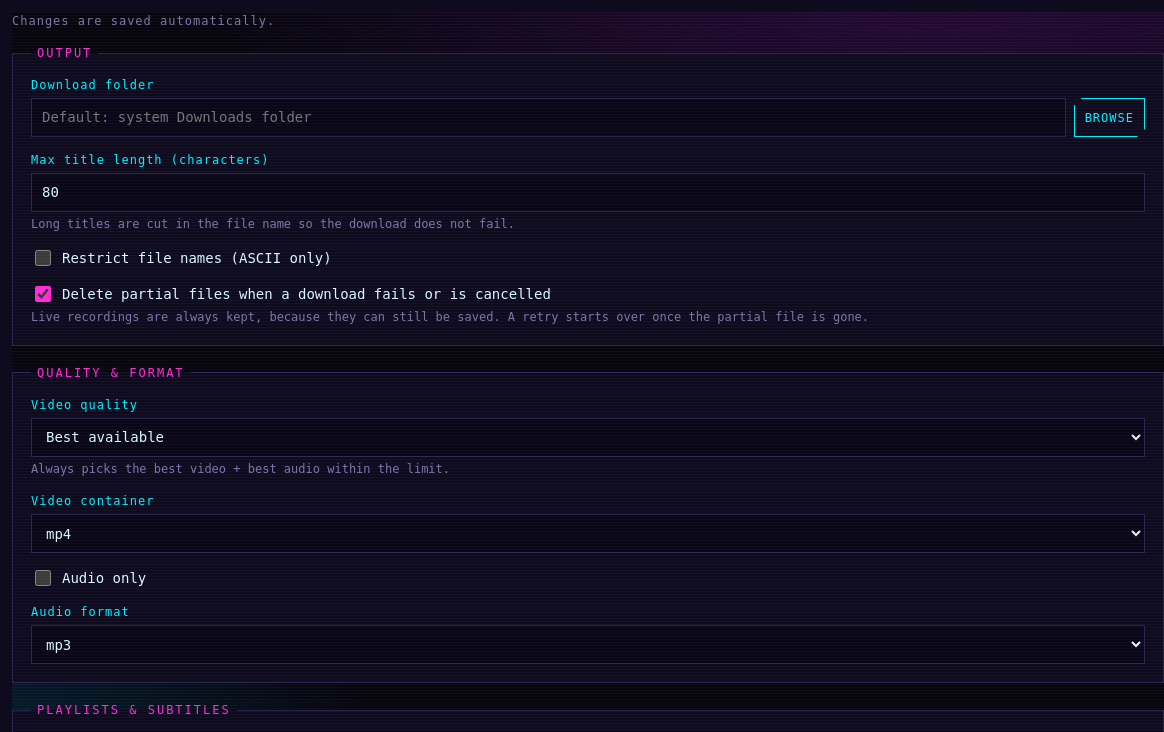
Test: SettingsPanel auto-save of toggles and selects (immediate) › shows the saved status after saving
Click the checkbox labelled "Audio only" at (43, 578), box [35,570,51,586]
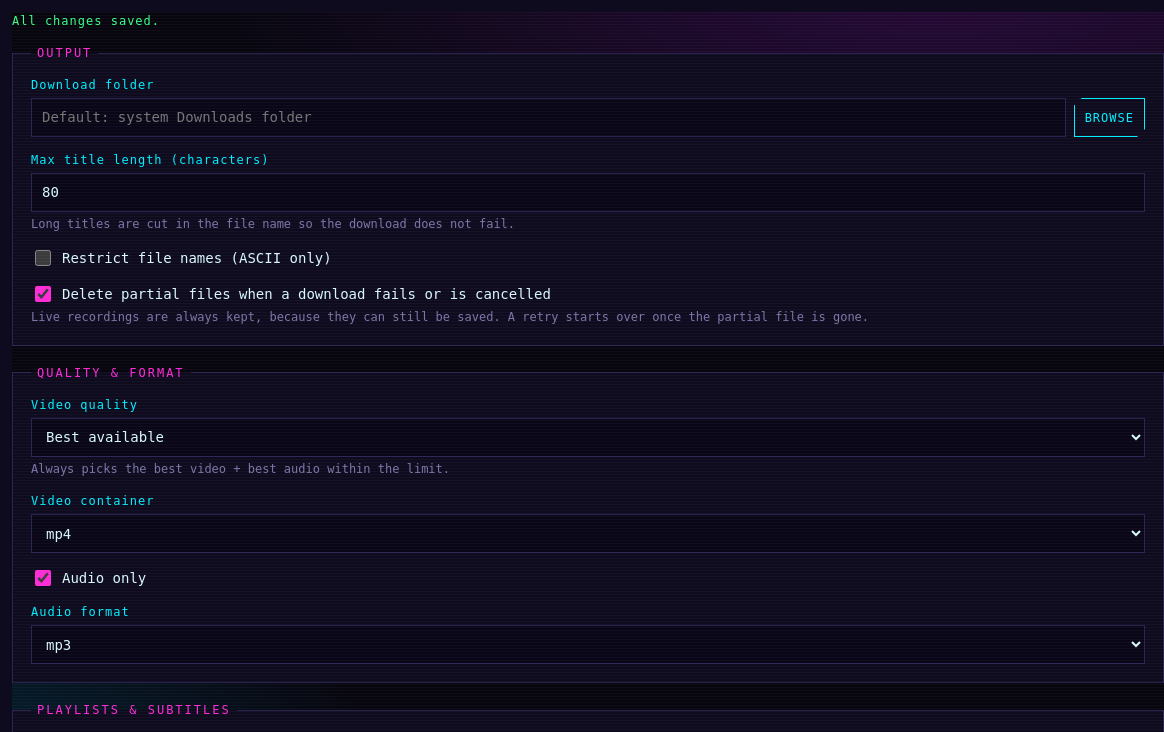
Expected: the text "All changes saved." is shown, [12,14,160,28]
